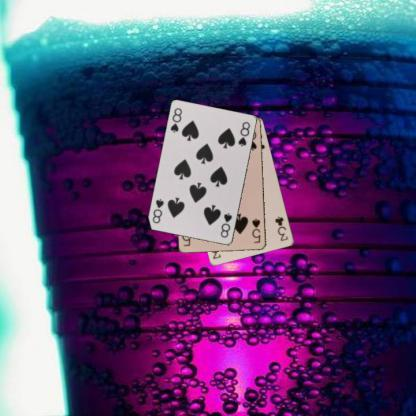3c: (272, 214, 290, 243)
5s: (250, 216, 262, 244)
8s: (218, 211, 233, 239), (168, 106, 183, 134)
